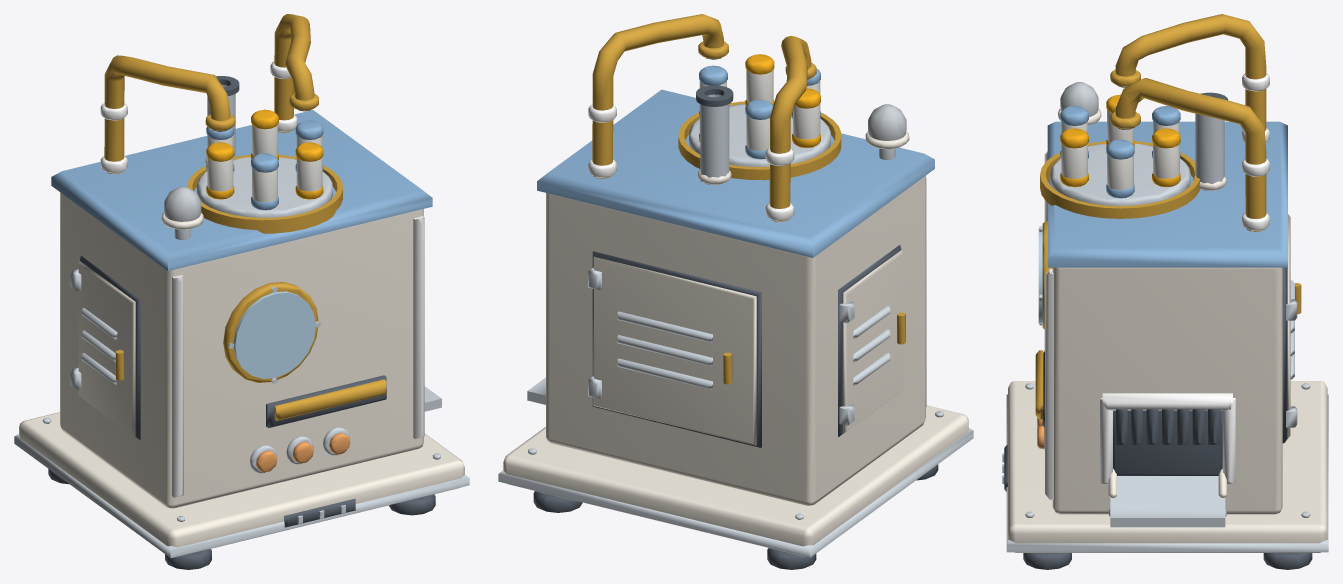
File: machine_chat.glb
The picture shows the model from 3 angles, left to right: view 1: azimuth 30°, elevation 25°; view 2: azimuth 150°, elevation 25°; view 3: azimuth 270°, elevation 25°; orthographic projection. The views are drawn at different scales.
Parts seen in each view (by area): view 1: machine_chat_structure, spin, lamp; view 2: machine_chat_structure, spin, lamp; view 3: machine_chat_structure, spin, lamp.
Part boxes in pixels (x1,y1,x2,y2): machine_chat_structure: (14, 14, 469, 569); spin: (197, 109, 332, 217); lamp: (164, 186, 201, 221); machine_chat_structure: (498, 14, 973, 569); spin: (689, 54, 830, 166); lamp: (868, 104, 906, 140); machine_chat_structure: (1002, 14, 1328, 569); spin: (1050, 94, 1190, 205); lamp: (1060, 82, 1098, 116).
Bounding box in the file's own units: 2.99 × 3.87 × 2.56.
